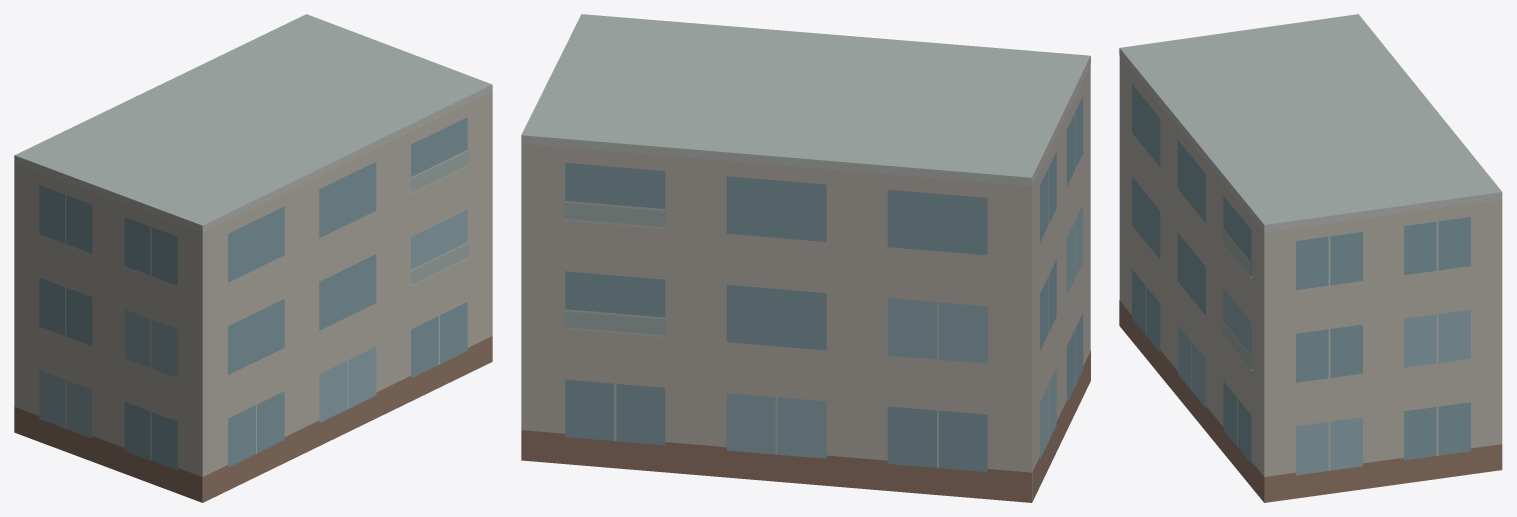
File: survey-upis-32998187.glb
3 renders of one model, left to right at view 1: azimuth 30°, elevation 25°; view 2: azimuth 150°, elevation 25°; view 3: azimuth 270°, elevation 25°, orthographic. The views are drawn at different scales.
Visible parts, largest first — view 1: survey-upis-32998187.tmp; view 2: survey-upis-32998187.tmp; view 3: survey-upis-32998187.tmp.
Part boxes in pixels (<box>): survey-upis-32998187.tmp: <box>14,14,492,502</box>; survey-upis-32998187.tmp: <box>521,14,1090,502</box>; survey-upis-32998187.tmp: <box>1119,14,1502,502</box>.
Size of the model in its own units: 14.9 by 9.15 by 11.43.
